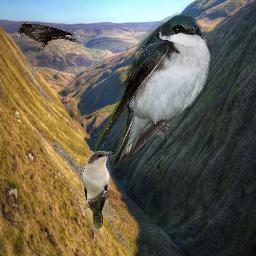Crow: (16, 23, 76, 52)
Cuckoo: (82, 151, 116, 231)
Swallow: (95, 9, 215, 168)
